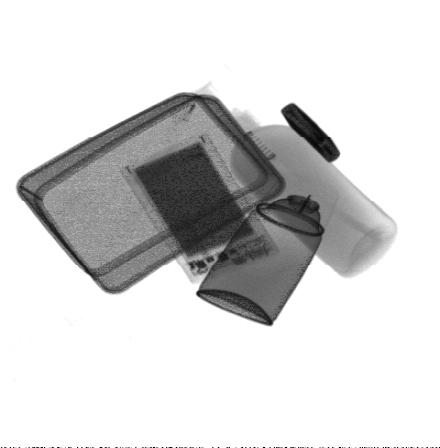Lighter: (279, 101, 343, 164)
Powerbank: (117, 132, 279, 285)
Sprayer: (195, 175, 340, 327)
